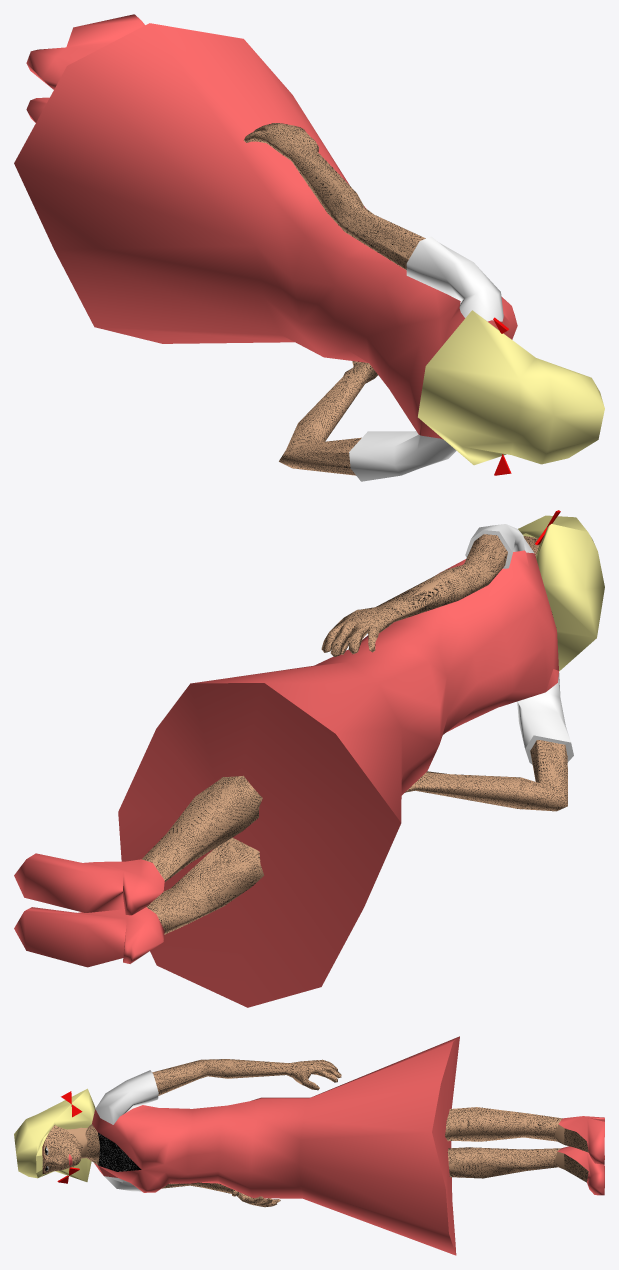
File: girl.dae
The picture shows the model from 3 angles, top to bottom: view 1: azimuth 30°, elevation 25°; view 2: azimuth 150°, elevation 25°; view 3: azimuth 270°, elevation 25°; orthographic projection. The views are drawn at different scales.
Visible parts, largest first — view 1: coords_ME_ID57_MA_Color_A03, coords_ME_ID63_MA_Shape_12, coords_ME_ID45_MA_Shape_006, coords_ME_ID19_MA_Shape_006, coords_ME_ID83_MA_Color_000, coords_ME_ID29_MA_Color_000, coords_ME_ID37_MA_Color_A03, coords_ME_ID45_MA_Color_009, coords_ME_ID19_MA_Color_009; view 2: coords_ME_ID133_MA_Color_A03, coords_ME_ID57_MA_Color_A03, coords_ME_ID63_MA_Shape_12, coords_ME_ID71_MA_Color_A03, coords_ME_ID37_MA_Color_A03, coords_ME_ID45_MA_Shape_006, coords_ME_ID51_MA_Shape_006, coords_ME_ID19_MA_Shape_006, coords_ME_ID77_MA_Shape_006, coords_ME_ID29_MA_Color_000, coords_ME_ID45_MA_Color_009, coords_ME_ID51_MA_Color_009 (+3 smaller); view 3: coords_ME_ID57_MA_Color_A03, coords_ME_ID45_MA_Shape_006, coords_ME_ID63_MA_Shape_12, coords_ME_ID51_MA_Shape_006, coords_ME_ID77_MA_Shape_006, coords_ME_ID133_MA_Color_A03, coords_ME_ID83_MA_Color_000, coords_ME_ID165_MA_Shape_006, coords_ME_ID37_MA_Color_A03, coords_ME_ID45_MA_Color_009, coords_ME_ID51_MA_Color_009, coords_ME_ID71_MA_Color_A03 (+7 smaller).
Boxes of the visible parts, x1=… form: coords_ME_ID57_MA_Color_A03: x1=14, y1=23, x2=517, y2=439; coords_ME_ID63_MA_Shape_12: x1=418, y1=310, x2=604, y2=465; coords_ME_ID45_MA_Shape_006: x1=244, y1=123, x2=425, y2=270; coords_ME_ID19_MA_Shape_006: x1=279, y1=361, x2=377, y2=475; coords_ME_ID83_MA_Color_000: x1=406, y1=236, x2=503, y2=321; coords_ME_ID29_MA_Color_000: x1=349, y1=431, x2=456, y2=481; coords_ME_ID37_MA_Color_A03: x1=26, y1=14, x2=144, y2=89; coords_ME_ID45_MA_Color_009: x1=245, y1=123, x2=422, y2=267; coords_ME_ID19_MA_Color_009: x1=280, y1=361, x2=376, y2=473; coords_ME_ID133_MA_Color_A03: x1=118, y1=683, x2=401, y2=1007; coords_ME_ID57_MA_Color_A03: x1=190, y1=550, x2=558, y2=822; coords_ME_ID63_MA_Shape_12: x1=518, y1=515, x2=604, y2=671; coords_ME_ID71_MA_Color_A03: x1=14, y1=907, x2=164, y2=967; coords_ME_ID37_MA_Color_A03: x1=14, y1=853, x2=164, y2=915; coords_ME_ID45_MA_Shape_006: x1=321, y1=534, x2=507, y2=656; coords_ME_ID51_MA_Shape_006: x1=142, y1=775, x2=262, y2=881; coords_ME_ID19_MA_Shape_006: x1=405, y1=740, x2=567, y2=811; coords_ME_ID77_MA_Shape_006: x1=146, y1=837, x2=264, y2=934; coords_ME_ID29_MA_Color_000: x1=517, y1=673, x2=570, y2=748; coords_ME_ID45_MA_Color_009: x1=322, y1=534, x2=506, y2=655; coords_ME_ID51_MA_Color_009: x1=145, y1=776, x2=261, y2=880; coords_ME_ID57_MA_Color_A03: x1=92, y1=1036, x2=459, y2=1255; coords_ME_ID45_MA_Shape_006: x1=152, y1=1059, x2=341, y2=1095; coords_ME_ID63_MA_Shape_12: x1=14, y1=1088, x2=95, y2=1181; coords_ME_ID51_MA_Shape_006: x1=445, y1=1107, x2=561, y2=1141; coords_ME_ID77_MA_Shape_006: x1=448, y1=1147, x2=560, y2=1178; coords_ME_ID133_MA_Color_A03: x1=432, y1=1036, x2=459, y2=1254; coords_ME_ID83_MA_Color_000: x1=95, y1=1070, x2=158, y2=1124; coords_ME_ID165_MA_Shape_006: x1=42, y1=1126, x2=82, y2=1173; coords_ME_ID37_MA_Color_A03: x1=558, y1=1116, x2=604, y2=1164; coords_ME_ID45_MA_Color_009: x1=154, y1=1059, x2=341, y2=1093; coords_ME_ID51_MA_Color_009: x1=445, y1=1107, x2=558, y2=1141; coords_ME_ID71_MA_Color_A03: x1=557, y1=1146, x2=604, y2=1195.
Bounding box in the file's own units: 5.02 × 5.43 × 14.86.
